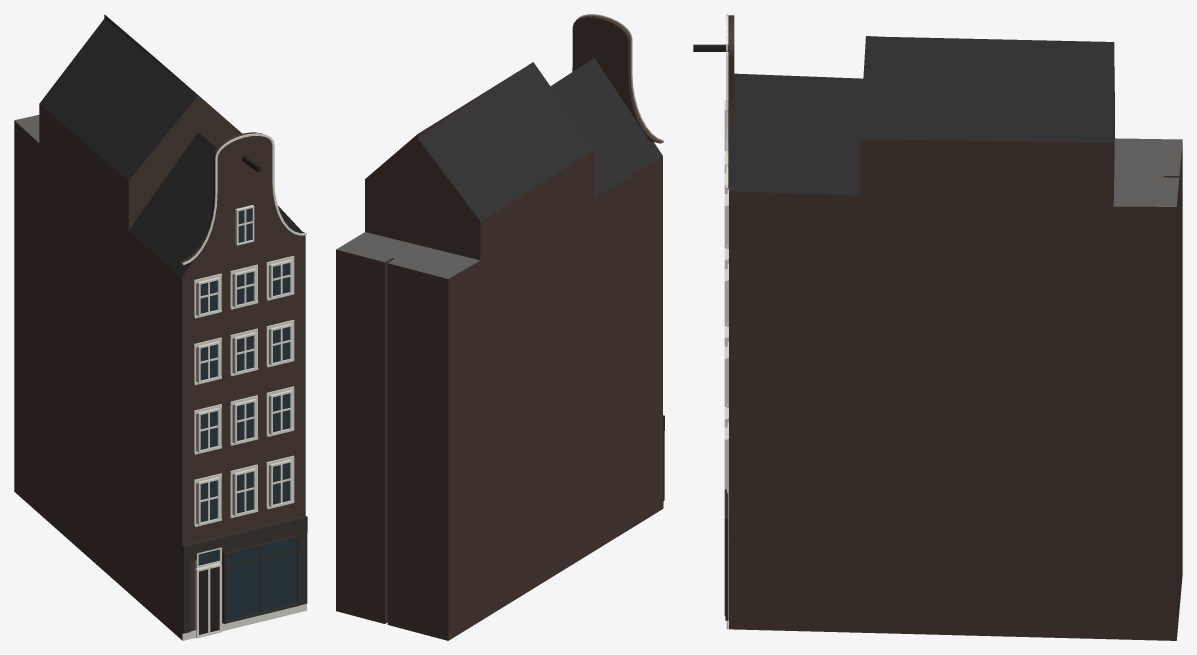
The picture shows the model from 3 angles, left to right: view 1: azimuth 30°, elevation 25°; view 2: azimuth 150°, elevation 25°; view 3: azimuth 270°, elevation 25°; orthographic projection. The views are drawn at different scales.
Visible parts, largest first — view 1: spec-0363100012182711; view 2: spec-0363100012182711; view 3: spec-0363100012182711.
Part boxes in pixels (x1=…): spec-0363100012182711: x1=14, y1=14, x2=307, y2=640; spec-0363100012182711: x1=336, y1=14, x2=664, y2=640; spec-0363100012182711: x1=693, y1=14, x2=1182, y2=640.
Size of the model in its own units: 5.97 by 19.4 by 15.
